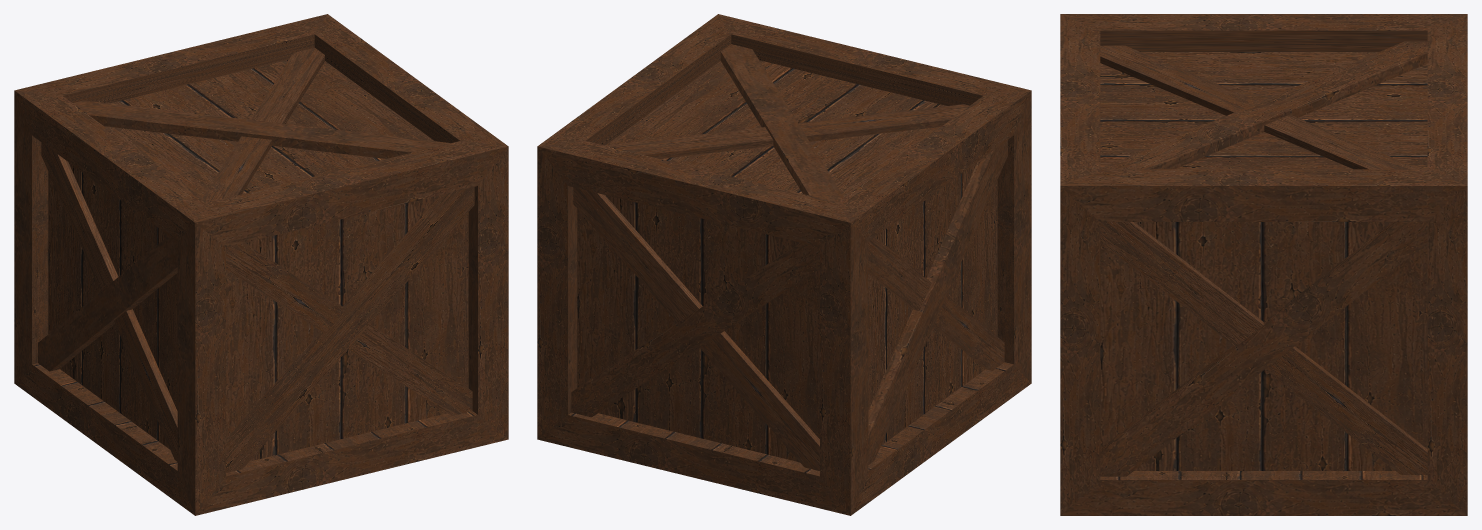
File: Wood_Box_Empty_2.fbx
3 views of the same model, side by side, from view 1: azimuth 30°, elevation 25°; view 2: azimuth 150°, elevation 25°; view 3: azimuth 270°, elevation 25° (orthographic). The views are drawn at different scales.
Parts seen in each view (by area): view 1: Wood_Box_Empty_2; view 2: Wood_Box_Empty_2; view 3: Wood_Box_Empty_2.
Boxes of the visible parts, <box> form: Wood_Box_Empty_2: <box>14,14,508,515</box>; Wood_Box_Empty_2: <box>537,14,1031,515</box>; Wood_Box_Empty_2: <box>1060,14,1467,515</box>.
Size of the model in its own units: 57.17 by 51.11 by 57.17.
